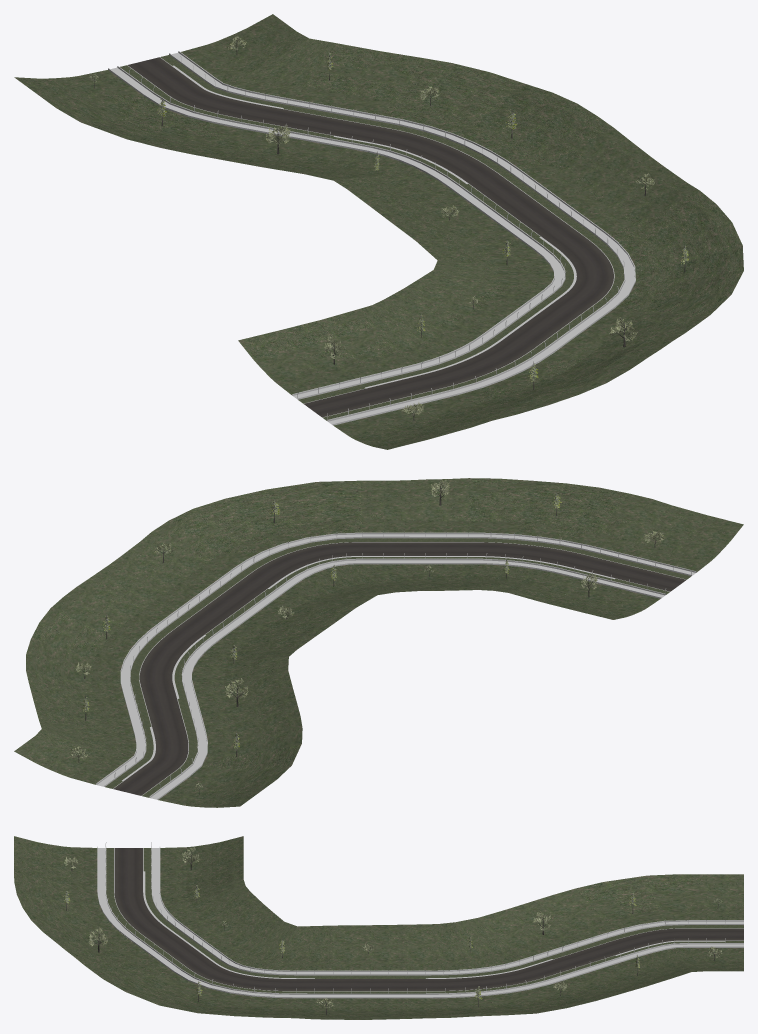
3 renders of one model, top to bottom at view 1: azimuth 30°, elevation 25°; view 2: azimuth 150°, elevation 25°; view 3: azimuth 270°, elevation 25°, orthographic. The views are drawn at different scales.
Parts seen in each view (by area): view 1: Grass, Road, Track, Trees; view 2: Grass, Road, Track, Trees; view 3: Grass, Road, Track, Trees.
Part boxes in pixels (left/top/right/bottom): Grass: left=14, top=14, right=743, bottom=449; Road: left=128, top=57, right=613, bottom=417; Track: left=108, top=51, right=635, bottom=425; Trees: left=89, top=35, right=688, bottom=420; Grass: left=14, top=478, right=743, bottom=807; Road: left=113, top=542, right=686, bottom=795; Track: left=96, top=531, right=696, bottom=799; Trees: left=70, top=479, right=664, bottom=794; Grass: left=14, top=836, right=743, bottom=1019; Road: left=114, top=848, right=743, bottom=990; Track: left=97, top=842, right=743, bottom=998; Trees: left=63, top=847, right=722, bottom=1014.
Size of the model in its own units: 26783 by 2009 by 44500.
